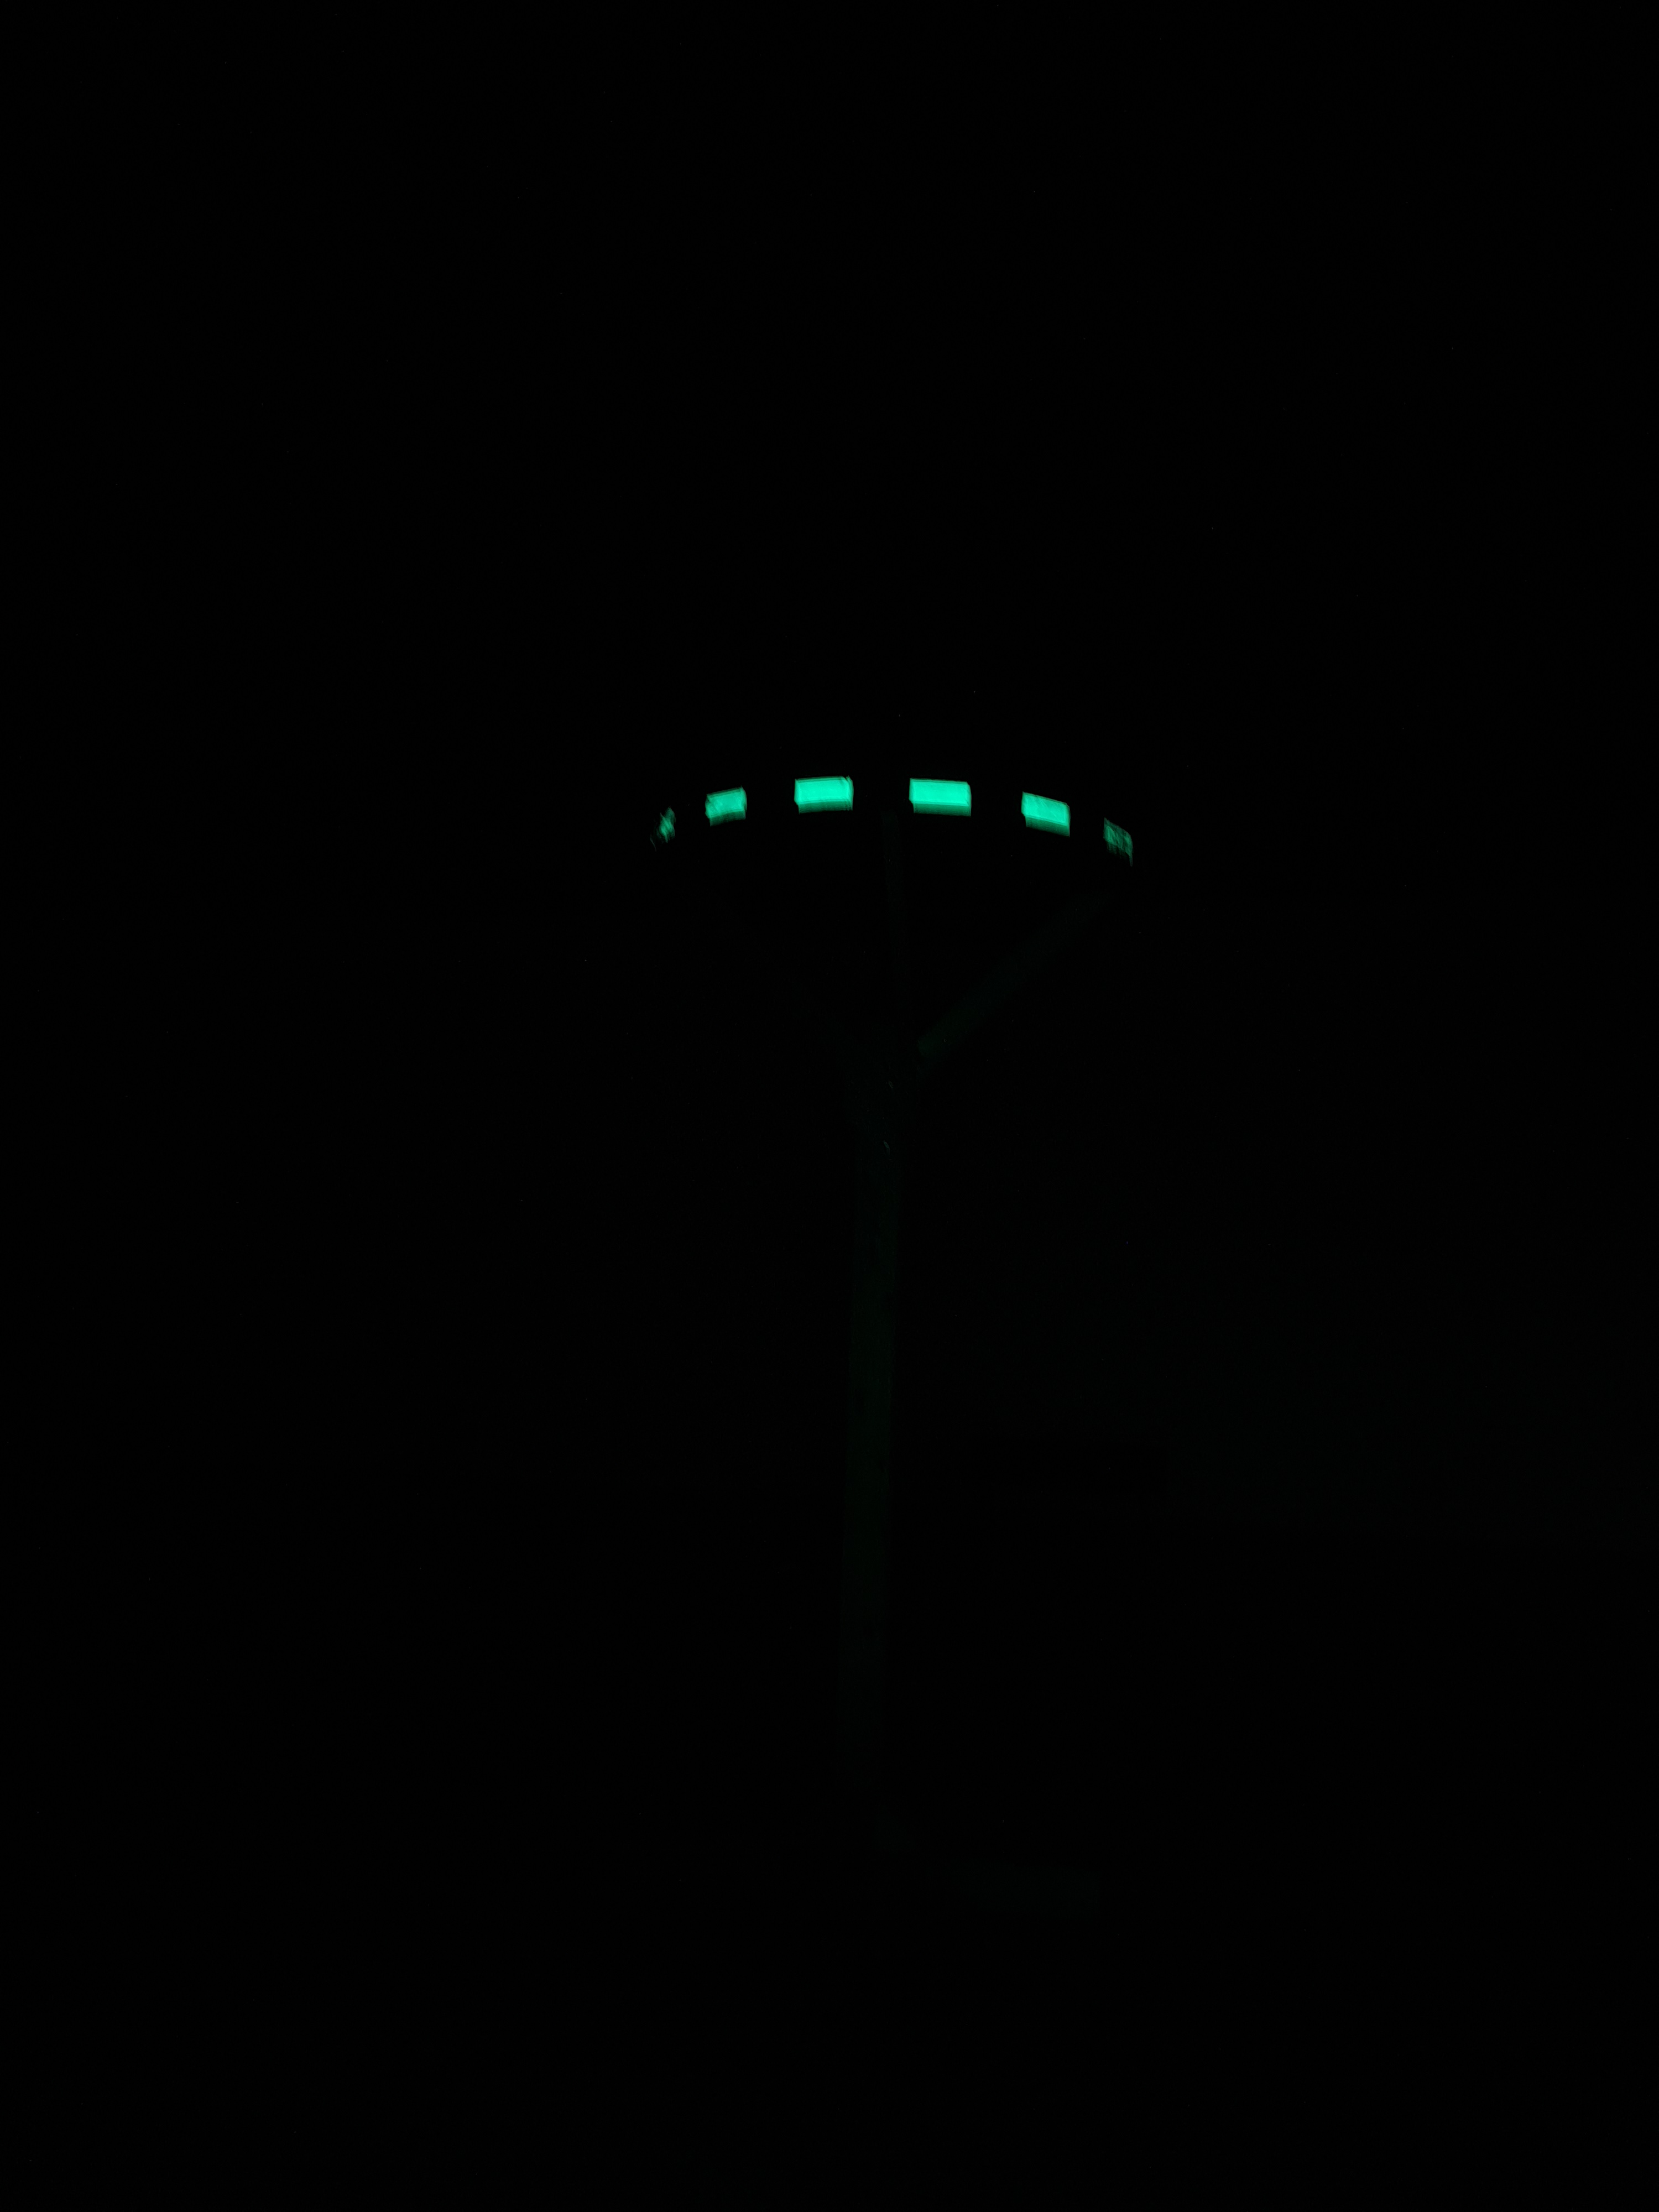hoop: (638, 763, 1150, 880)
